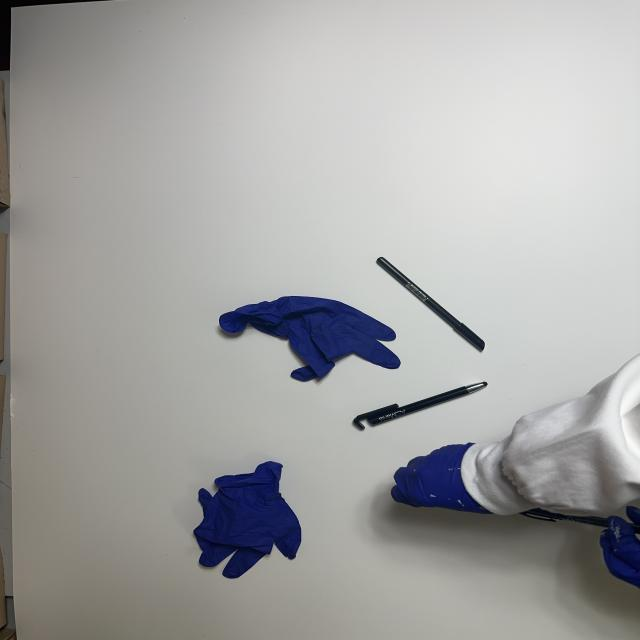gloves_contaminated: (391, 443, 490, 514), (600, 506, 640, 588)
